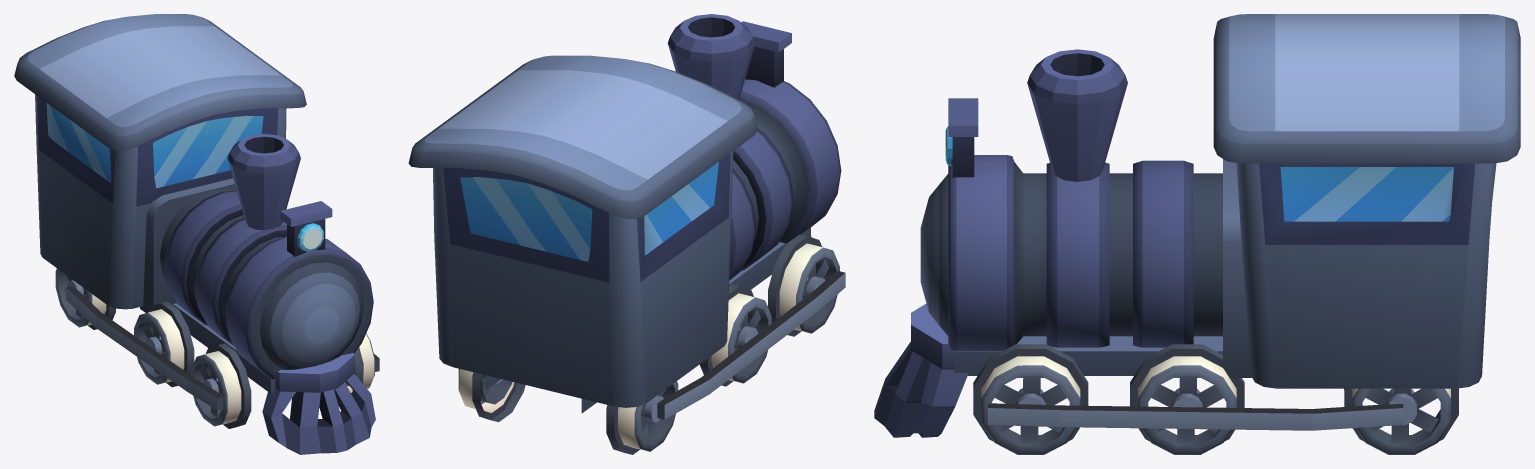
The model's file is train_1-Locomotive.fbx.
3 renders of one model, left to right at view 1: azimuth 30°, elevation 25°; view 2: azimuth 150°, elevation 25°; view 3: azimuth 270°, elevation 25°, orthographic. The views are drawn at different scales.
Parts seen in each view (by area): view 1: train_1-Locomotive; view 2: train_1-Locomotive; view 3: train_1-Locomotive.
Boxes of the visible parts, box(x1,y1,x2,y2) form: train_1-Locomotive: box(14, 14, 379, 454); train_1-Locomotive: box(408, 14, 845, 454); train_1-Locomotive: box(874, 14, 1520, 454).
Bounding box in the file's own units: 172 × 223 × 361.
